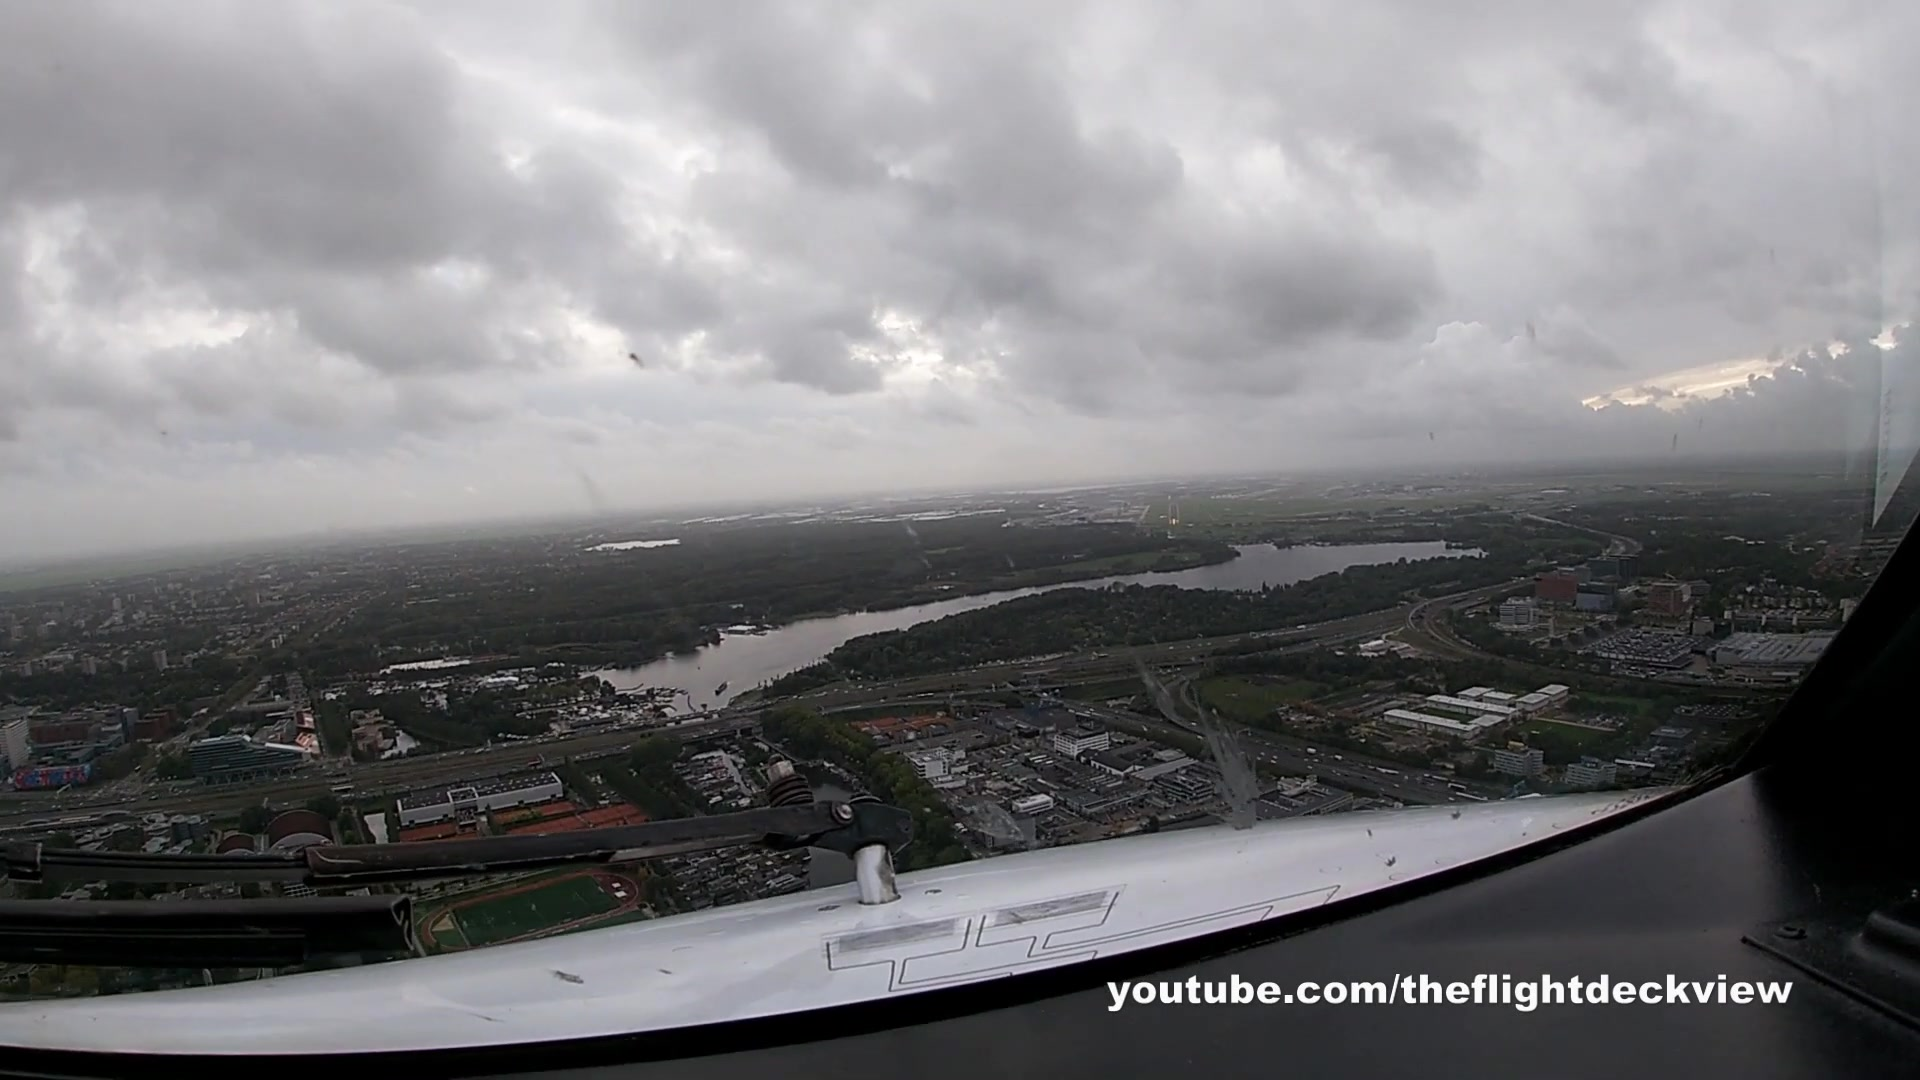runway: (1166, 501, 1182, 527)
